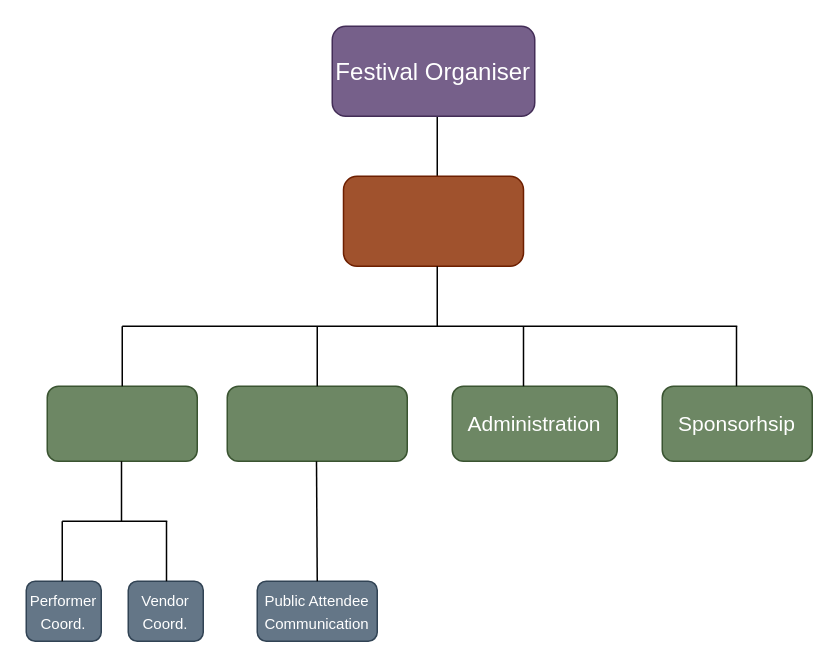
This 839x668 diagram has some shape labels left out. Each missing label, with the centre of its shape:
"Event Coordination" goes at pixel 121 423.
"Festival Director" goes at pixel 433 220.
"Marketing & Communication" goes at pixel 316 423.
